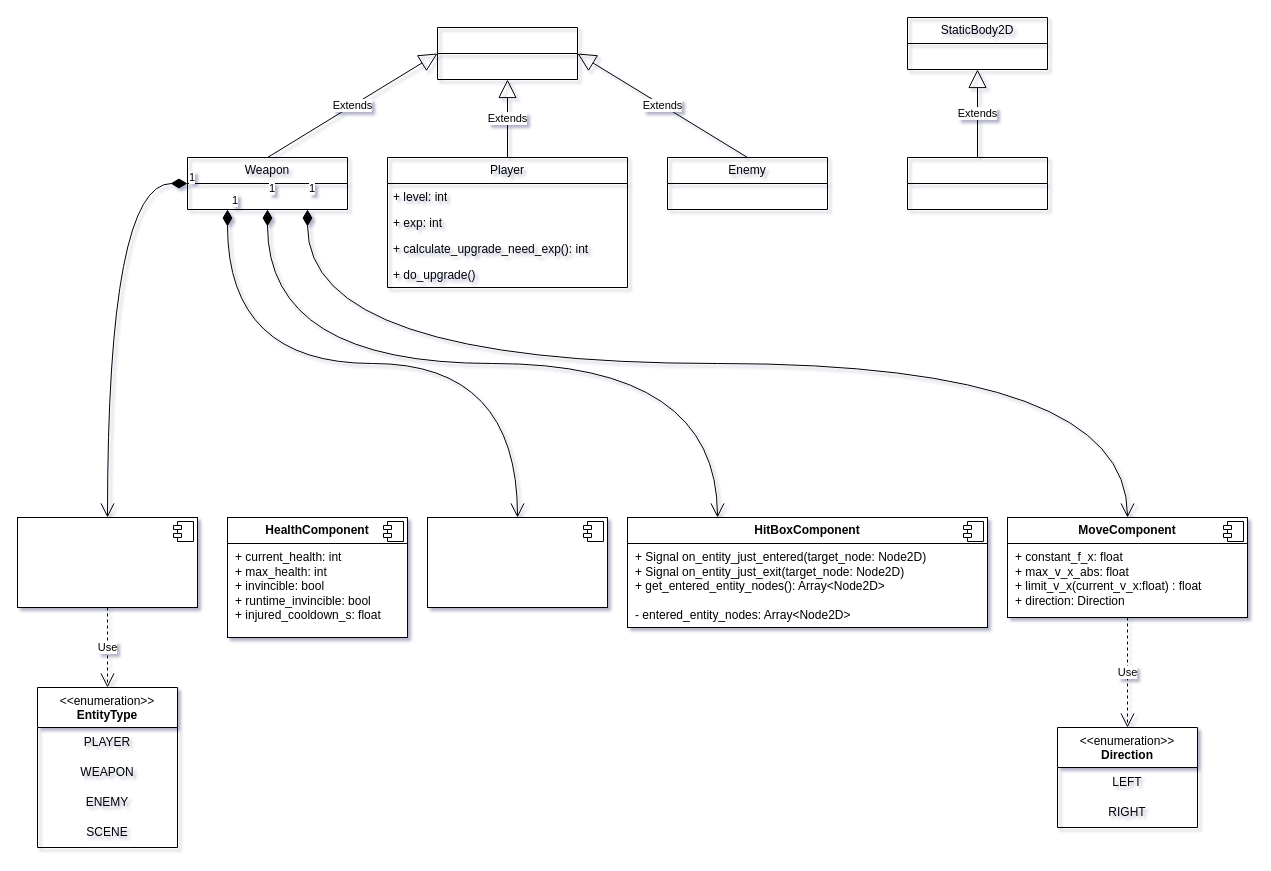
Some shapes in this 1271 by 871 pixel diagram are drawn without their labels. The shapes that lost their labels are listed below. From the top down, each one's centre as x and y in pixels, then its label:
point 507,53: CharacterBody2D
point 977,183: DeadZone
point 107,562: EntityTypeComponent + type: EntityType
point 517,562: AttackComponent + attack_strength: int + do_attack(target: Node2D);
